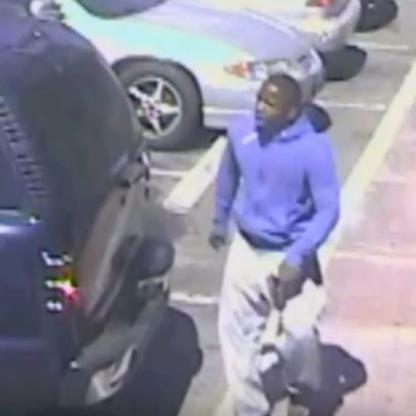pistol: (262, 255, 290, 317)
